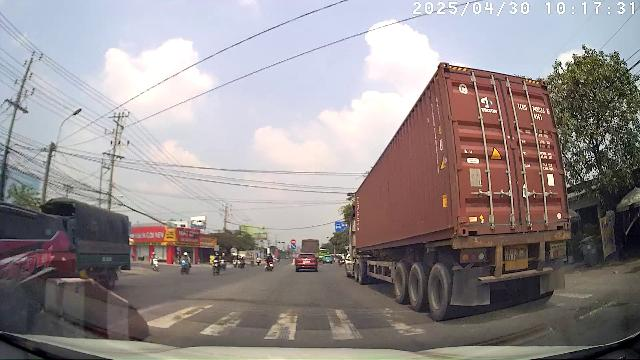102-cam-di-nguoc-chieu: (290, 239, 296, 244)
302a-huong-phai-di-vong-chuong-ngai-vat-1: (291, 244, 296, 249)
